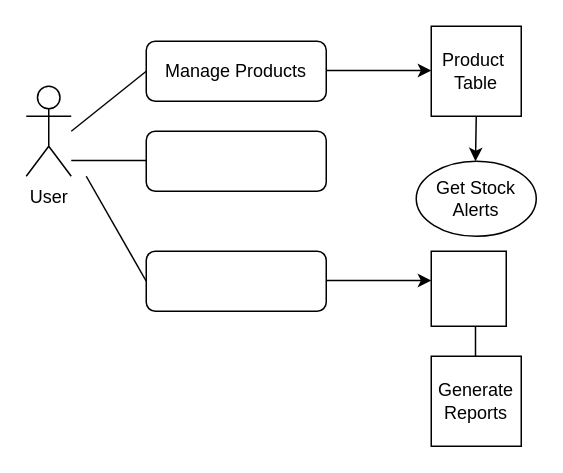
Image size: 563x473. Some labels were removed from this diagram. The centre of each missing label's shape, as x and y in pixels:
Manage Stock: (235,160)
Record Sales: (235,280)
Sales Table: (468,288)
